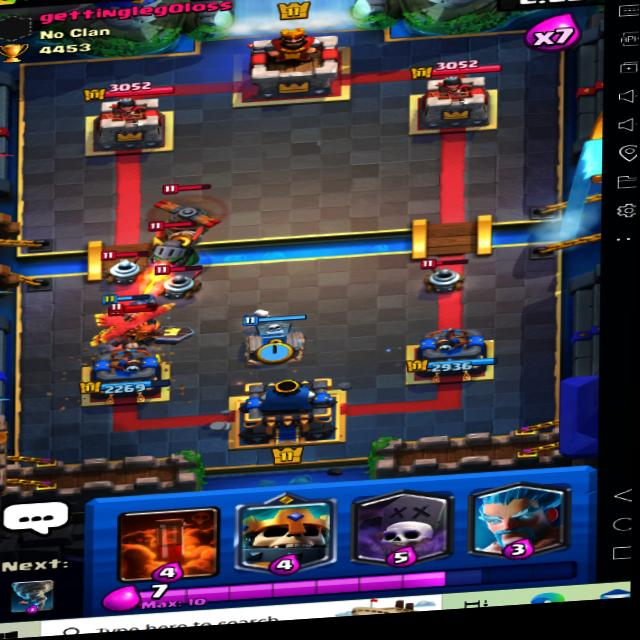flying-machine: (147, 185, 222, 249)
inferno-dragon: (139, 212, 195, 275)
zappie: (408, 256, 471, 299), (156, 260, 204, 299), (101, 249, 153, 283)
